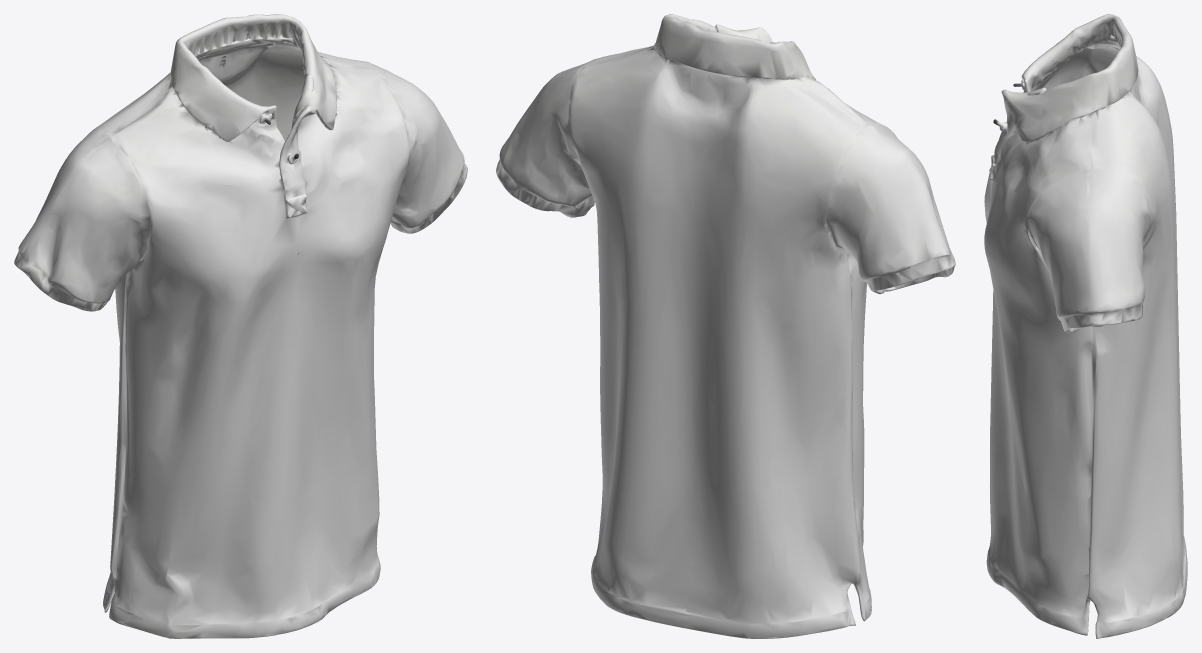
3 renders of one model, left to right at view 1: azimuth 30°, elevation 25°; view 2: azimuth 150°, elevation 25°; view 3: azimuth 270°, elevation 25°, orthographic. The views are drawn at different scales.
Parts seen in each view (by area): view 1: tripo_node_527a3afa-61ba-4c0e-9a93-1919c4d6832e; view 2: tripo_node_527a3afa-61ba-4c0e-9a93-1919c4d6832e; view 3: tripo_node_527a3afa-61ba-4c0e-9a93-1919c4d6832e.
Part boxes in pixels (box(x1,y1,x2,y2)): tripo_node_527a3afa-61ba-4c0e-9a93-1919c4d6832e: box(14, 14, 467, 638); tripo_node_527a3afa-61ba-4c0e-9a93-1919c4d6832e: box(496, 14, 955, 638); tripo_node_527a3afa-61ba-4c0e-9a93-1919c4d6832e: box(984, 14, 1187, 638).
Bounding box in the file's own units: 0.8258 × 0.9993 × 0.34.
1 material, 1 textured.
